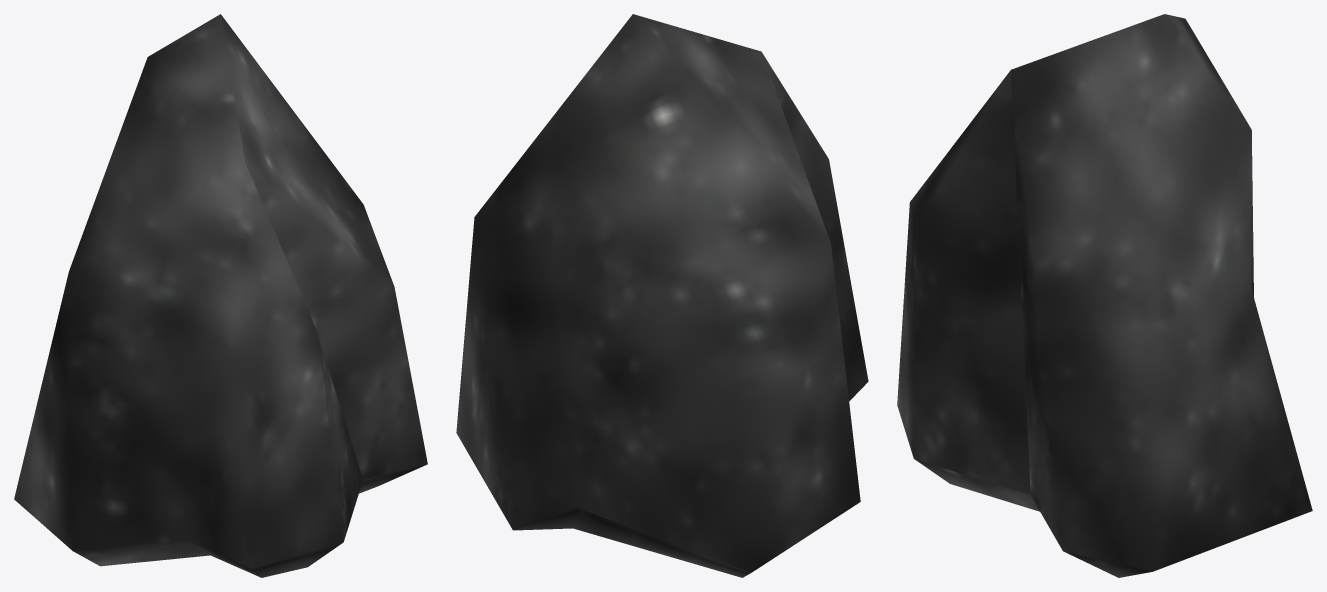
File: rock02.fbx
The picture shows the model from 3 angles, left to right: view 1: azimuth 30°, elevation 25°; view 2: azimuth 150°, elevation 25°; view 3: azimuth 270°, elevation 25°; orthographic projection.
Visible parts, largest first — view 1: Cube; view 2: Cube; view 3: Cube.
Boxes of the visible parts, left/top/right/bottom form: Cube: left=14, top=14, right=427, bottom=577; Cube: left=456, top=14, right=868, bottom=577; Cube: left=897, top=14, right=1312, bottom=577.
Size of the model in its own units: 255 by 336 by 247.
